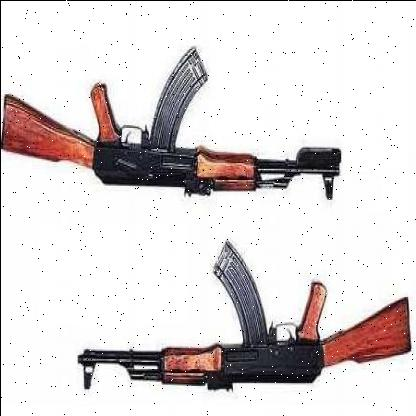rifle: (52, 234, 409, 416), (1, 19, 339, 211)
